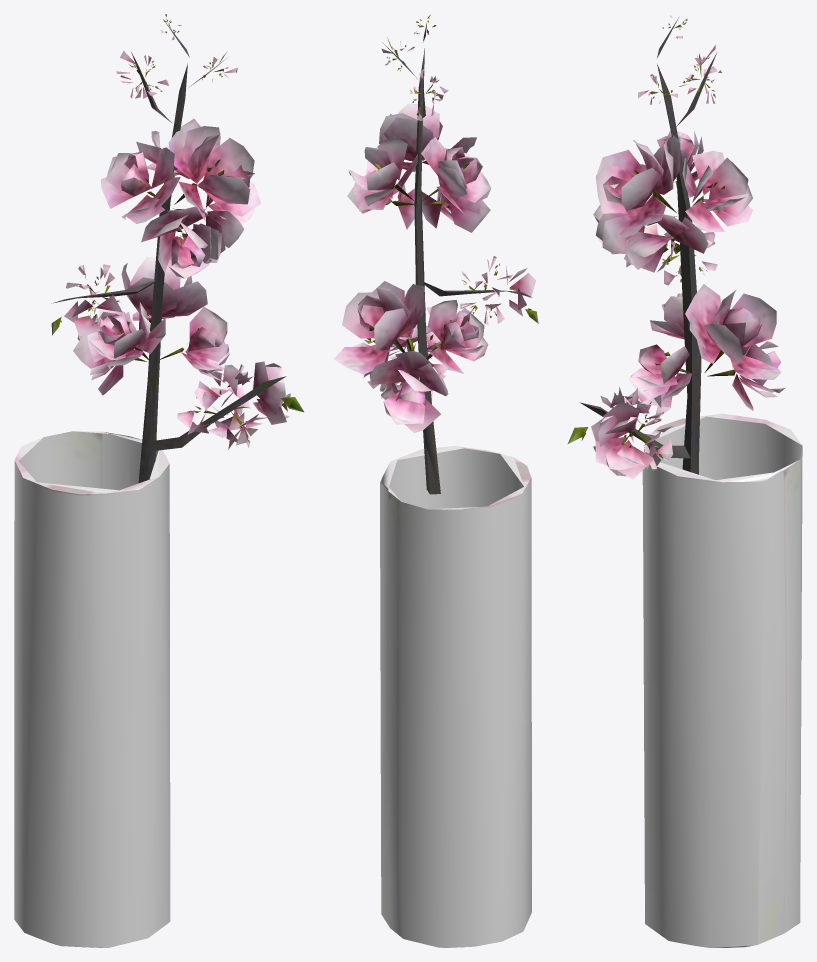
Rendered from Vase0022.obj.
The picture shows the model from 3 angles, left to right: view 1: azimuth 30°, elevation 25°; view 2: azimuth 150°, elevation 25°; view 3: azimuth 270°, elevation 25°; orthographic projection. The views are drawn at different scales.
Bounding box in the file's own units: 0.112 × 0.436 × 0.1.
1 material, 1 textured.
